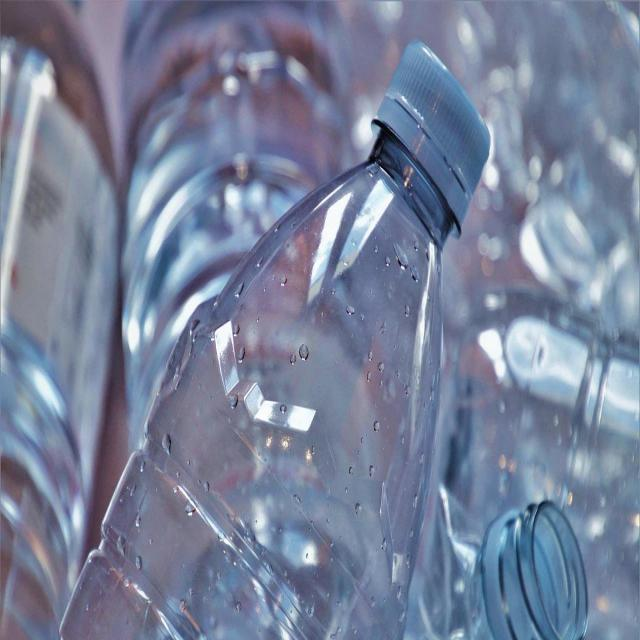plastic: (69, 45, 486, 640)
